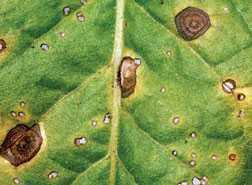black-spot: (164, 104, 216, 185)
